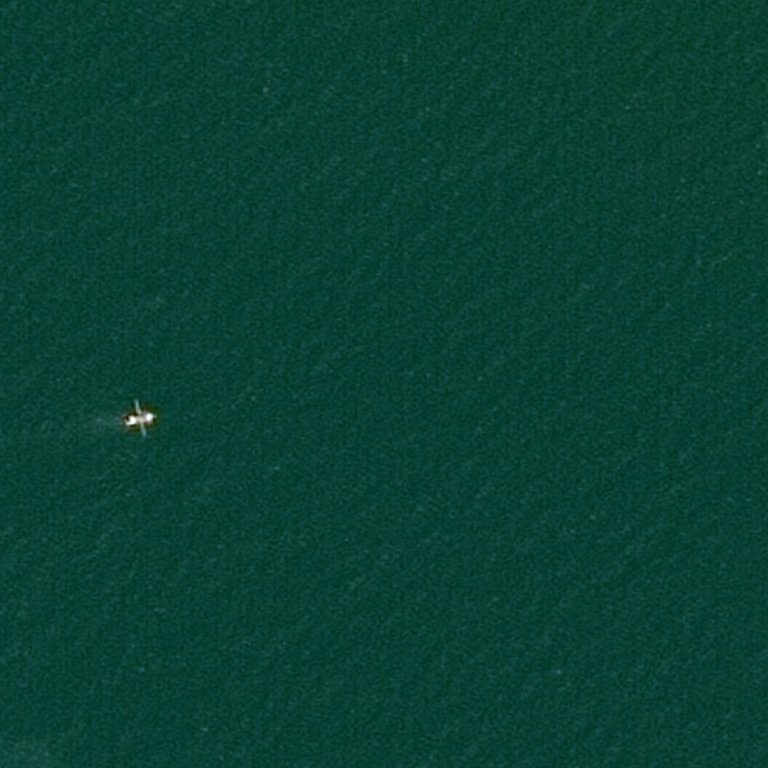ship: (125, 410, 156, 427)
